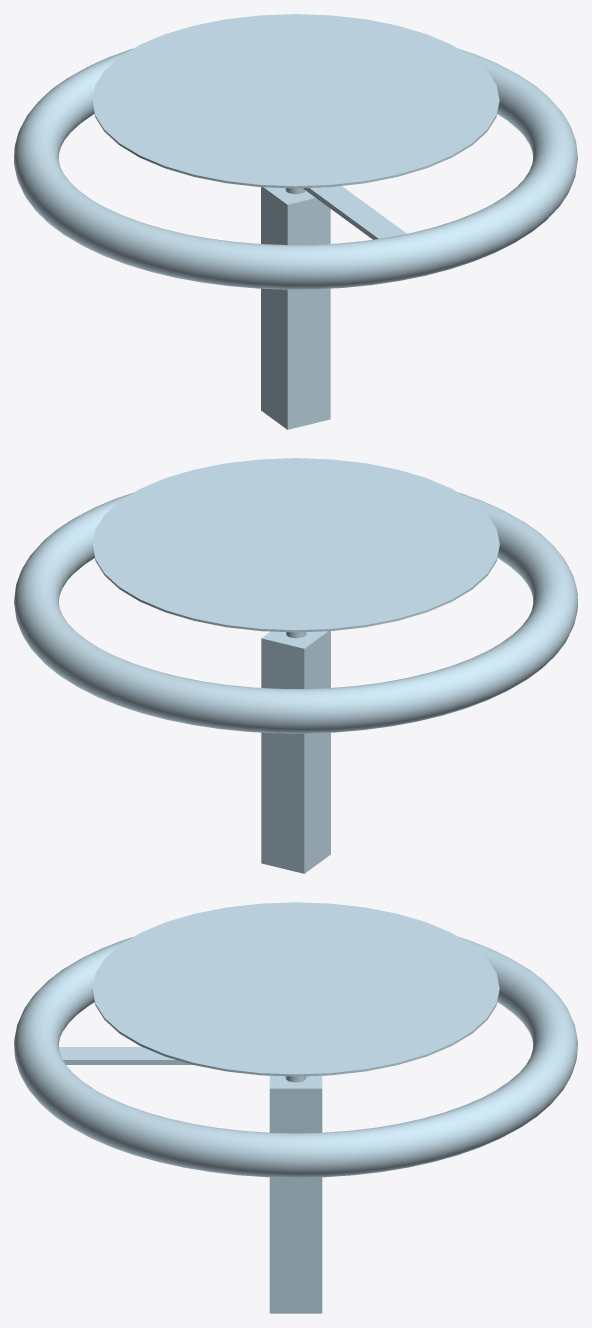
File: live_pod_kit.glb
The picture shows the model from 3 angles, top to bottom: view 1: azimuth 30°, elevation 25°; view 2: azimuth 150°, elevation 25°; view 3: azimuth 270°, elevation 25°; orthographic projection.
Visible parts, largest first — view 1: Live solar disc, Live berm, Live container, Live dig beam; view 2: Live solar disc, Live berm, Live container; view 3: Live solar disc, Live berm, Live container, Live dig beam.
Boxes of the visible parts, x1,y1,x2,y2 form: Live solar disc: (92, 14, 499, 188); Live berm: (14, 48, 577, 289); Live container: (261, 187, 330, 429); Live dig beam: (303, 186, 406, 239); Live solar disc: (92, 458, 499, 632); Live berm: (14, 492, 577, 733); Live container: (261, 631, 330, 873); Live solar disc: (92, 902, 499, 1076); Live berm: (14, 937, 577, 1177); Live container: (269, 1075, 322, 1313); Live dig beam: (59, 1047, 192, 1064).
Bounding box in the file's own units: 27.68 × 17.06 × 27.69.
